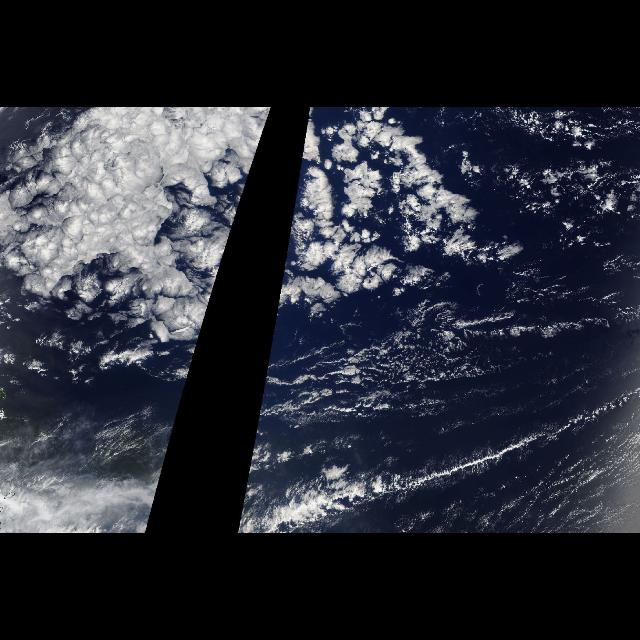Flower: (264, 111, 582, 381), (18, 111, 270, 381)
Sugar: (466, 341, 640, 534)
